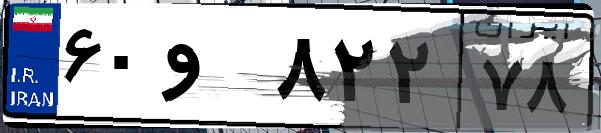0: (110, 28, 158, 98)
2: (385, 28, 445, 110), (330, 28, 385, 110)
6: (57, 26, 110, 100)
7: (475, 38, 525, 113)
8: (270, 28, 330, 110), (525, 38, 570, 115)
و: (158, 20, 270, 120)
